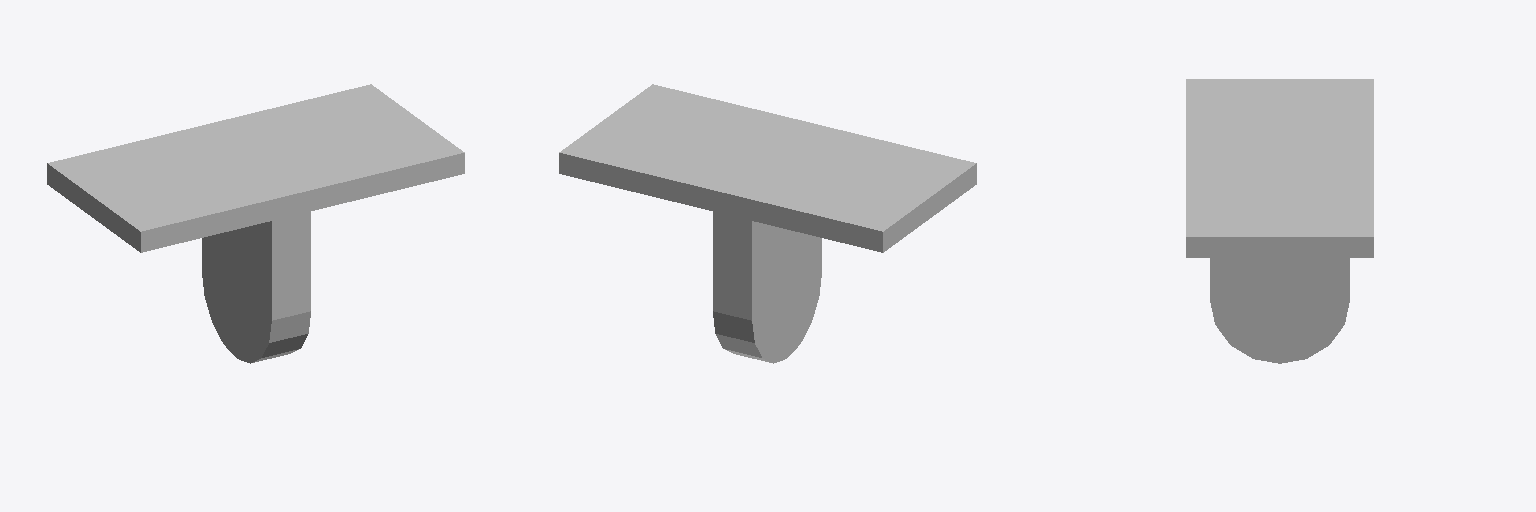
The model's file is Body1.obj.
3 views of the same model, side by side, from view 1: azimuth 30°, elevation 25°; view 2: azimuth 150°, elevation 25°; view 3: azimuth 270°, elevation 25° (orthographic).
Size of the model in its own units: 16 by 9.25 by 8.